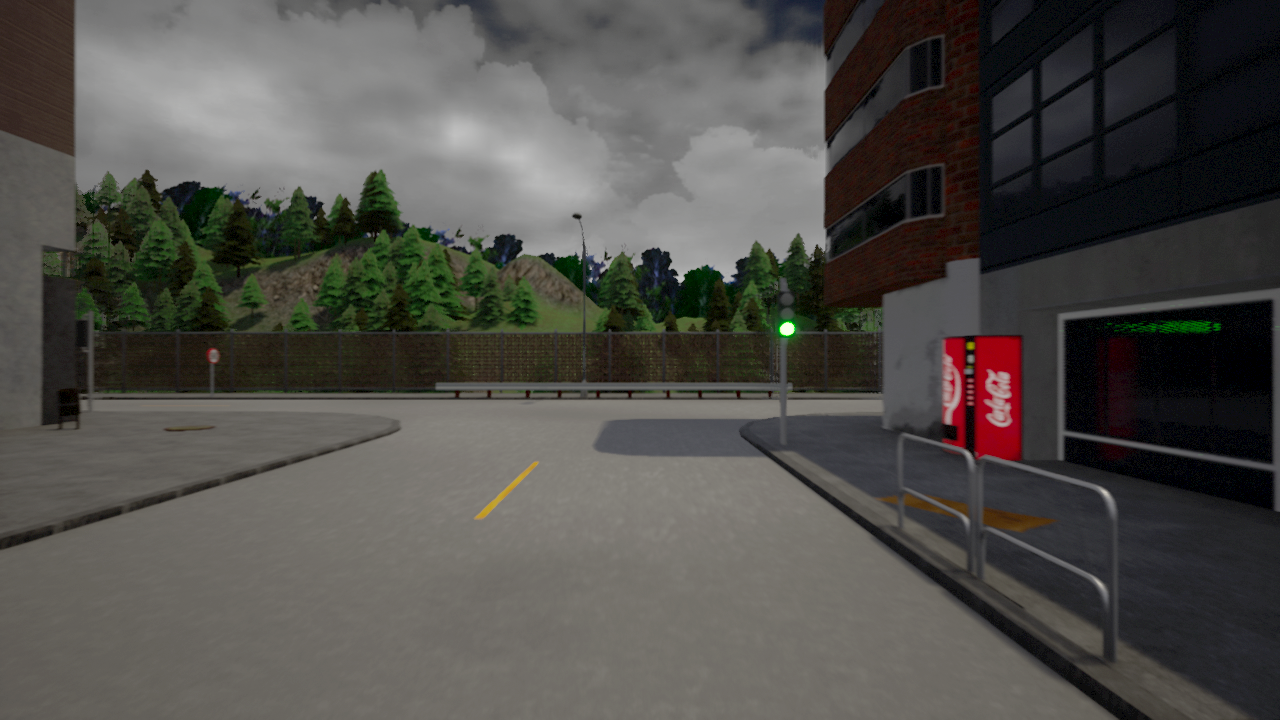green: (777, 291, 798, 336)
